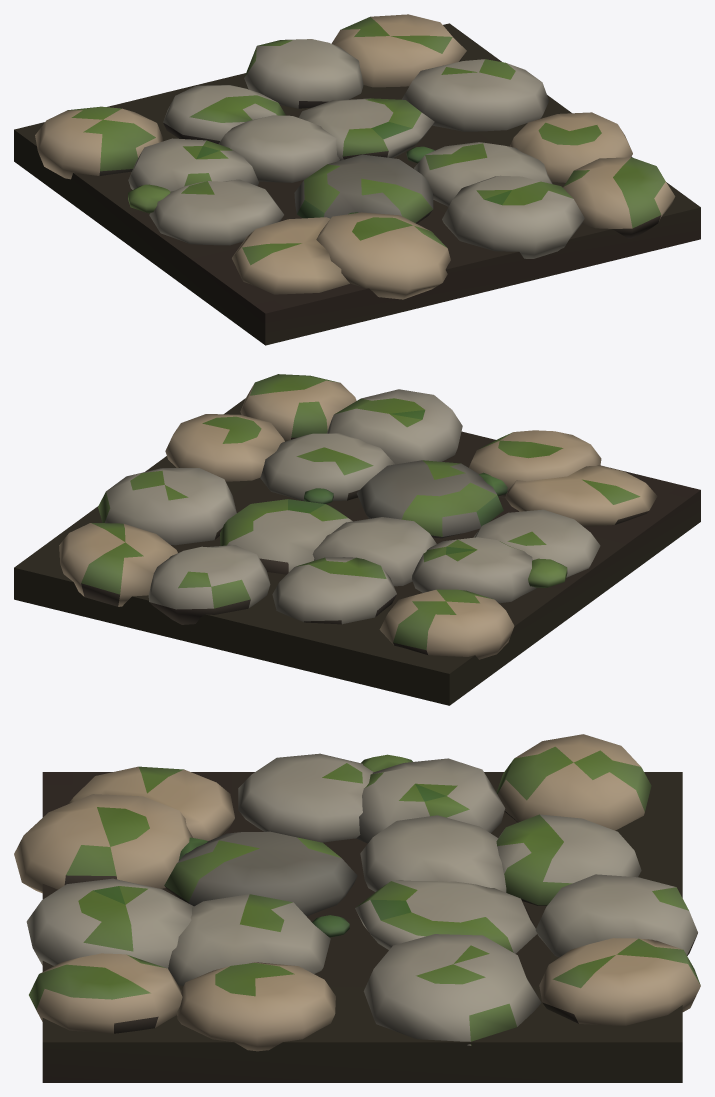
Rendered from kit_floor5.glb.
3 views of the same model, one above another, from view 1: azimuth 30°, elevation 25°; view 2: azimuth 150°, elevation 25°; view 3: azimuth 270°, elevation 25° (orthographic). The views are drawn at different scales.
Parts seen in each view (by area): view 1: kit_floor5; view 2: kit_floor5; view 3: kit_floor5.
Boxes of the visible parts, x1,y1,x2,y2 form: kit_floor5: (14,14,700,345); kit_floor5: (14,374,700,705); kit_floor5: (14,734,700,1082).
Size of the model in its own units: 1.05 by 0.1403 by 1.07.
